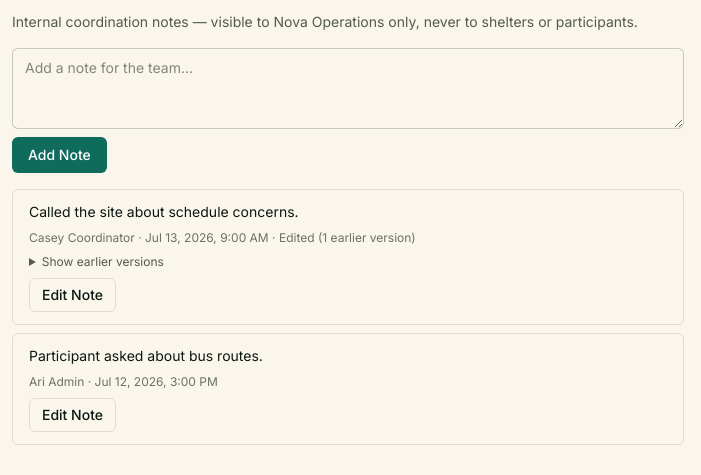
Test: CaseNotesTab (Story 5.9) › opens an edit form pre-filled with the current body
This screenshot has width=701, height=475.
What coordinates should you click on to do the following:
click the button "Edit Note" below "Called the site about schedule concerns."
I would click on:
 (72, 295)
Its box is [29,278,116,312].
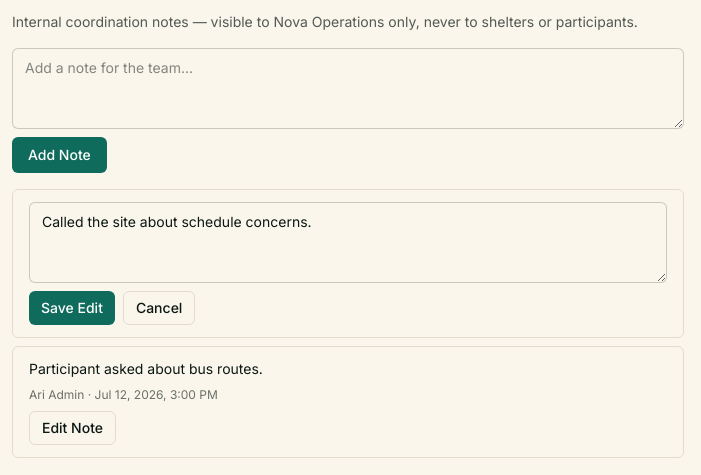
Expected: the text box named "Edit note" holds "Called the site about schedule concerns.", [29,202,667,283]
Expected: the button "Save Edit" is shown, [29,291,115,325]
